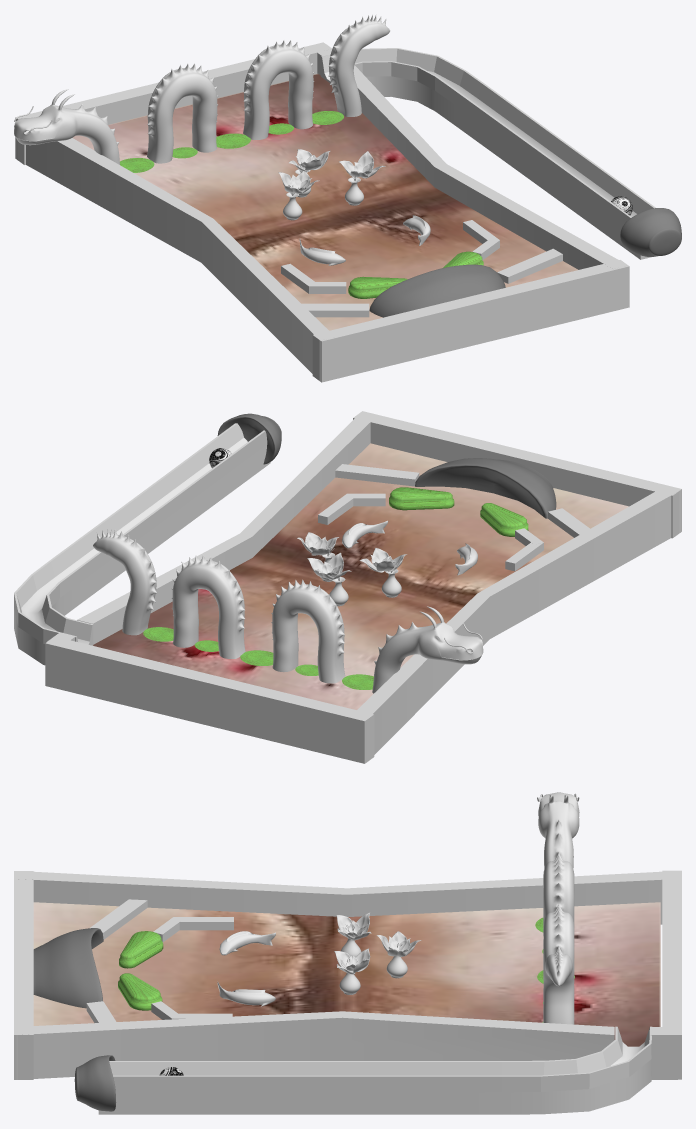
File: Flipperkast.FBX
3 renders of one model, top to bottom at view 1: azimuth 30°, elevation 25°; view 2: azimuth 150°, elevation 25°; view 3: azimuth 270°, elevation 25°, orthographic. The views are drawn at different scales.
Visible parts, largest first — view 1: Buitenmuur (×4), Box, Muur, Draak, Ingot(deathzone), Ingot, Bloem, Binnenmuur (×2), Box010, Box009, Flipper(links), Vaas (+1 smaller); view 2: Buitenmuur (×4), Box, Draak, Muur, Ingot(deathzone), Binnenmuur (×2), Bloem, Ingot, Flipper(rechts), Box010, Flipper(links), Vaas (+2 smaller); view 3: Box, Buitenmuur (×4), Muur, Draak, Ingot(deathzone), Bloem, Ingot, Binnenmuur (×2), Flipper(links), Flipper(rechts), Box009, Vaas (+2 smaller).
Boxes of the visible parts, x1,y1,x2,y2 form: Buitenmuur (×4): (15,42,629,382); Box: (72,74,577,330); Muur: (321,48,655,259); Draak: (14,14,390,164); Ingot(deathzone): (369,264,505,317); Ingot: (620,208,681,256); Bloem: (278,149,385,193); Binnenmuur (×2): (281,220,499,293); Box010: (497,248,562,283); Box009: (301,303,369,317); Flipper(links): (348,276,407,298); Vaas: (283,169,363,220); Buitenmuur (×4): (45,411,681,763); Box: (93,443,628,709); Draak: (93,529,483,693); Muur: (14,423,270,665); Ingot(deathzone): (415,458,556,518); Binnenmuur (×2): (318,493,543,571); Bloem: (297,532,407,579); Ingot: (217,413,281,464); Flipper(rechts): (389,487,454,510); Box010: (335,464,419,486); Flipper(links): (480,503,528,536); Vaas: (320,552,401,606); Box: (33,902,660,1046); Buitenmuur (×4): (14,870,681,1079); Muur: (98,1026,651,1114); Draak: (538,792,579,1024); Ingot(deathzone): (33,928,103,1008); Bloem: (334,912,421,974); Ingot: (74,1055,116,1111); Binnenmuur (×2): (151,917,233,1019); Flipper(links): (119,931,163,968); Flipper(rechts): (118,973,162,1010); Box009: (90,899,147,939); Vaas: (339,938,407,994).
Bounding box in the file's own units: 140 × 39.06 × 162.
